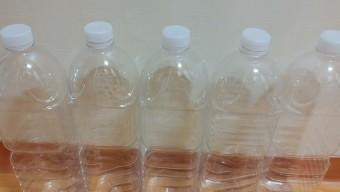bottle: (209, 28, 291, 192), (66, 21, 140, 192), (142, 25, 210, 192), (272, 27, 340, 192), (0, 24, 53, 192)
